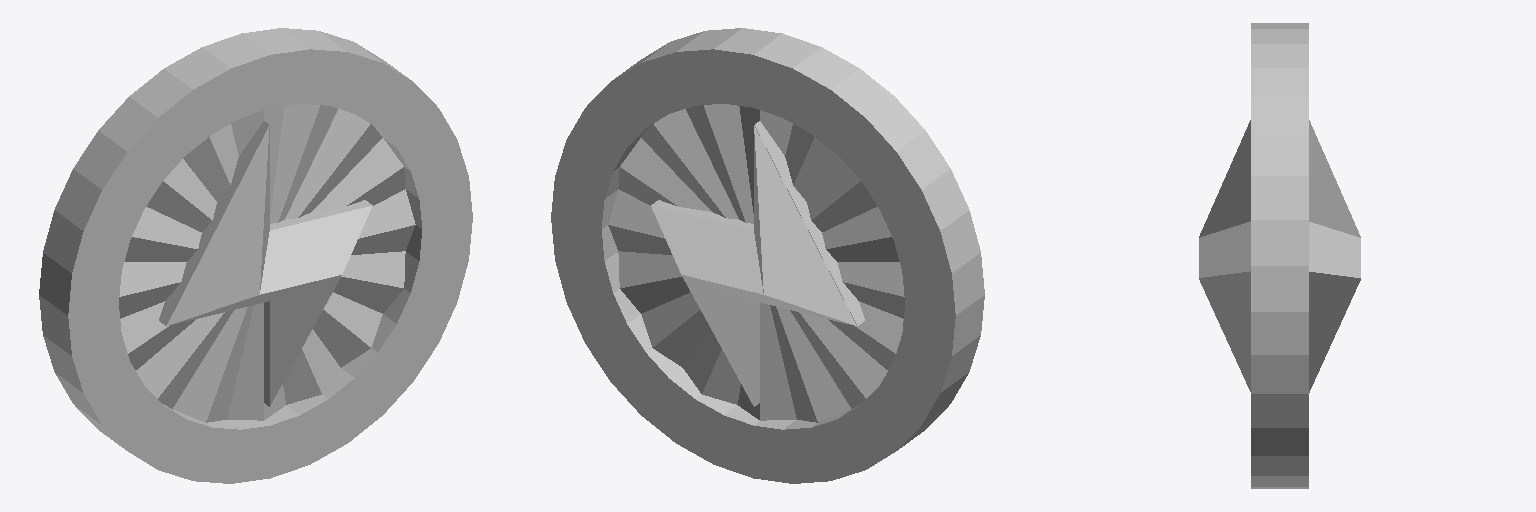
The model's file is coin_lightning.obj.
3 views of the same model, side by side, from view 1: azimuth 30°, elevation 25°; view 2: azimuth 150°, elevation 25°; view 3: azimuth 270°, elevation 25° (orthographic).
Parts seen in each view (by area): view 1: Mesh2 Model, Mesh1 Group1 Model; view 2: Mesh2 Model, Mesh1 Group1 Model; view 3: Mesh2 Model, Mesh1 Group1 Model.
Boxes of the visible parts, x1,y1,x2,y2 form: Mesh2 Model: [39, 28, 472, 483]; Mesh1 Group1 Model: [159, 121, 372, 406]; Mesh2 Model: [551, 28, 984, 483]; Mesh1 Group1 Model: [651, 121, 864, 406]; Mesh2 Model: [1251, 23, 1308, 488]; Mesh1 Group1 Model: [1199, 120, 1360, 392].
Bounding box in the file's own units: 12 × 12 × 4.18.